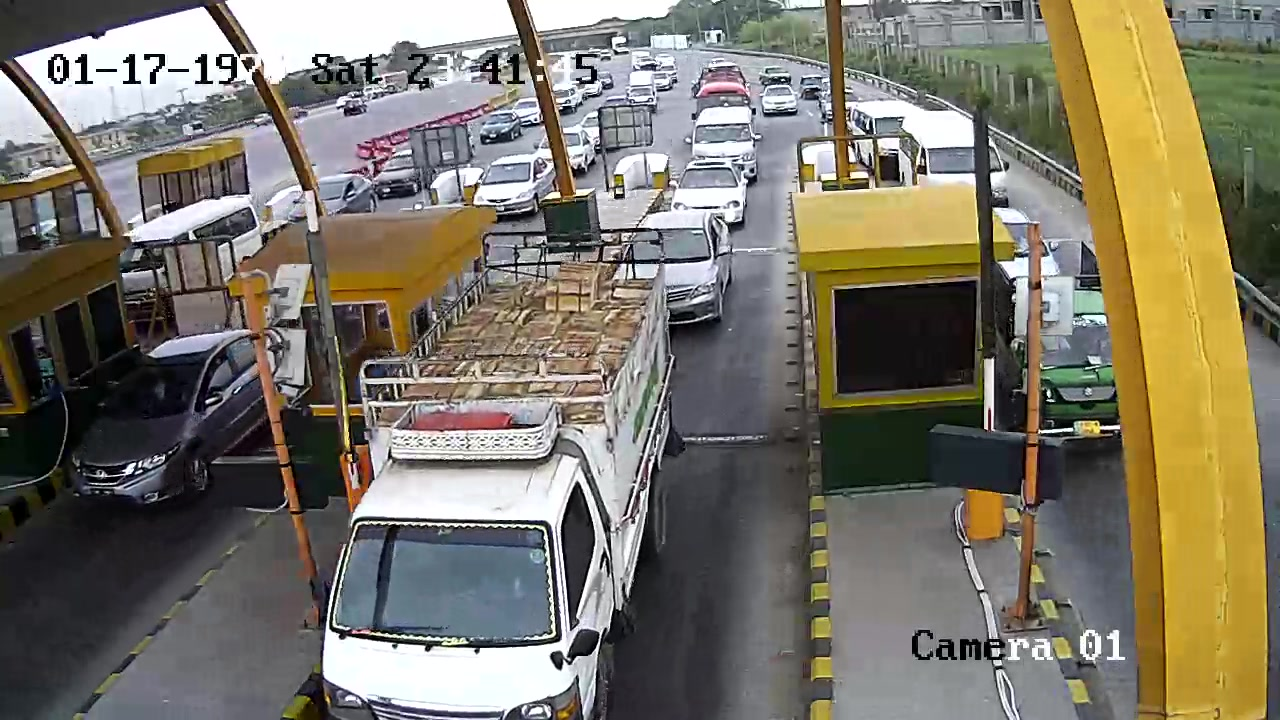F2: (309, 226, 678, 719)
